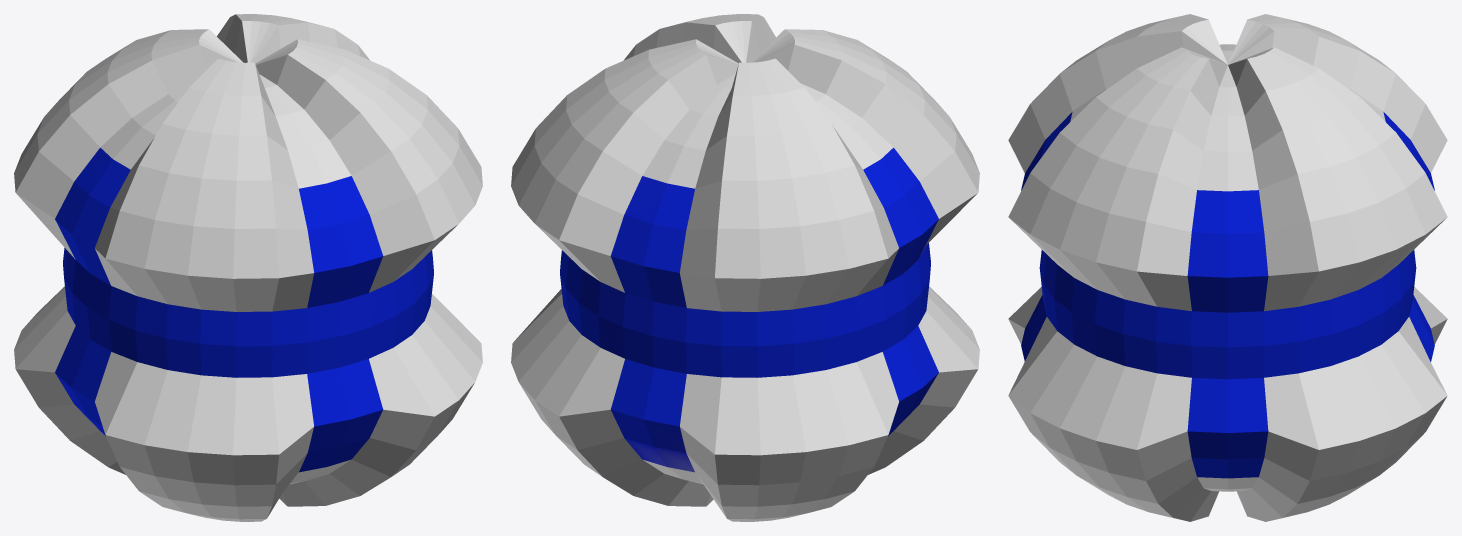
Rendered from Powerup4.fbx.
The picture shows the model from 3 angles, left to right: view 1: azimuth 30°, elevation 25°; view 2: azimuth 150°, elevation 25°; view 3: azimuth 270°, elevation 25°; orthographic projection.
Visible parts, largest first — view 1: Sphere; view 2: Sphere; view 3: Sphere.
Boxes of the visible parts, x1=… form: Sphere: x1=14, y1=14, x2=482, y2=521; Sphere: x1=511, y1=14, x2=979, y2=521; Sphere: x1=1008, y1=14, x2=1447, y2=521.
Bounding box in the file's own units: 3.35 × 3.85 × 3.35.
